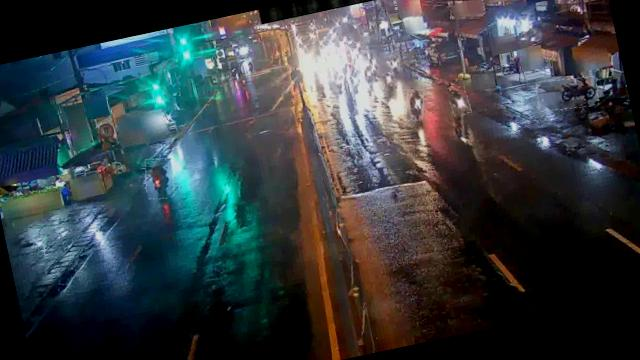Bike: (534, 70, 600, 114), (141, 155, 179, 201), (402, 88, 427, 122), (448, 86, 471, 116), (362, 63, 376, 84), (382, 72, 396, 92), (391, 55, 402, 72)
